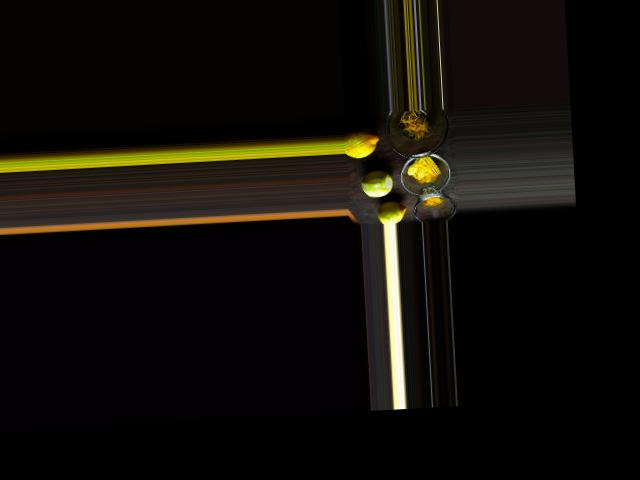lemon: (345, 126, 384, 158)
